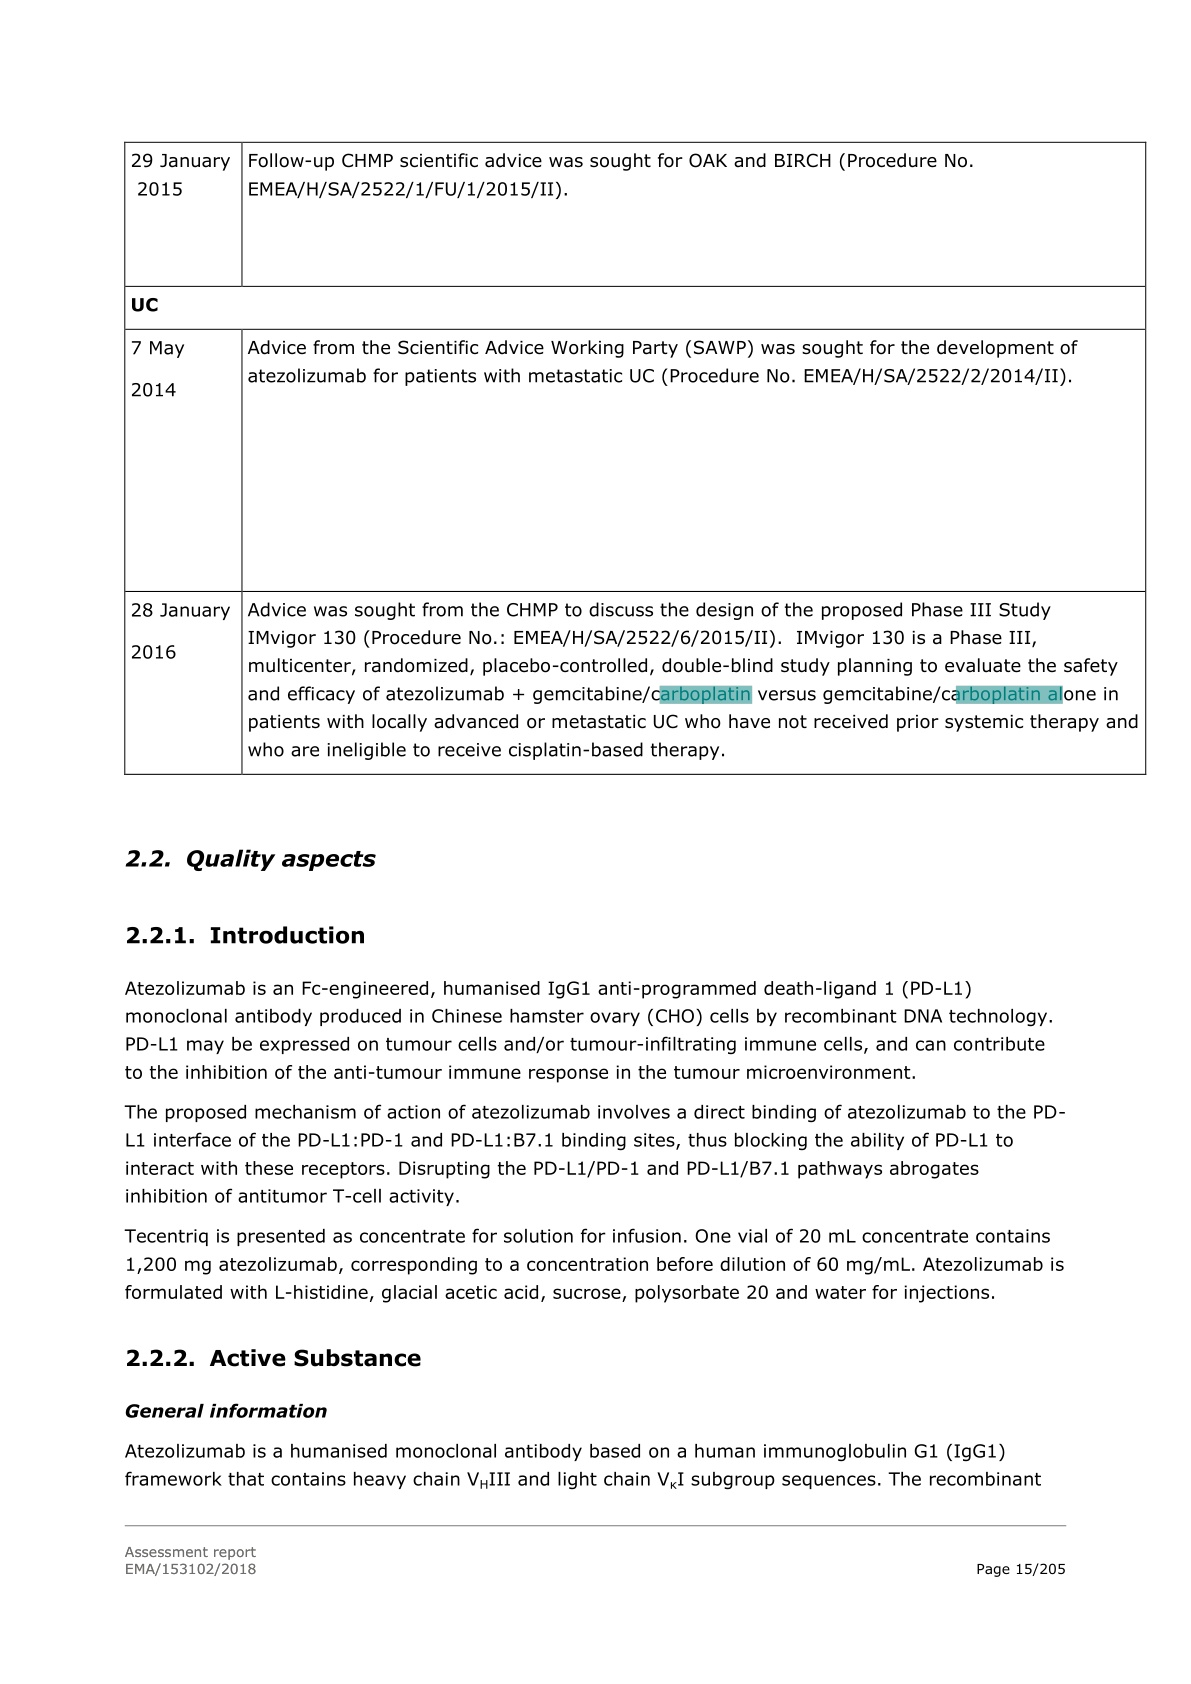merged_cells: (122, 140, 1147, 776)
